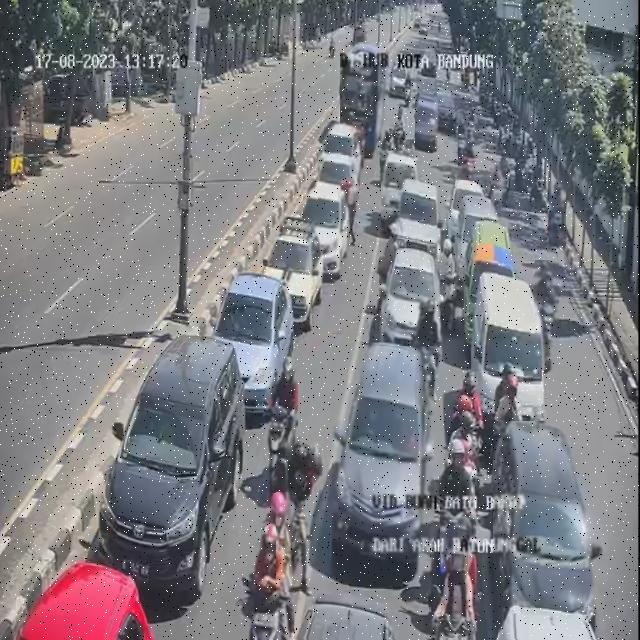bus: (341, 42, 388, 155)
cars: (88, 336, 245, 603), (333, 344, 434, 579), (493, 422, 602, 628), (215, 273, 294, 411), (472, 274, 546, 421), (16, 562, 152, 639), (264, 216, 324, 329), (295, 590, 430, 640), (465, 220, 516, 343), (380, 247, 443, 346), (391, 179, 452, 276), (304, 182, 349, 275), (455, 194, 498, 280), (499, 607, 597, 639), (382, 151, 419, 227), (319, 151, 359, 220), (447, 179, 484, 243), (324, 122, 363, 181), (416, 94, 437, 149)
motorcycle: (244, 493, 294, 639), (277, 443, 321, 592), (265, 358, 298, 492), (433, 549, 477, 639), (448, 372, 484, 477), (414, 298, 442, 400), (535, 261, 559, 370), (496, 372, 524, 459), (437, 240, 464, 330), (439, 440, 475, 499), (441, 501, 475, 554), (459, 117, 477, 180), (550, 181, 566, 246), (492, 161, 506, 213)
